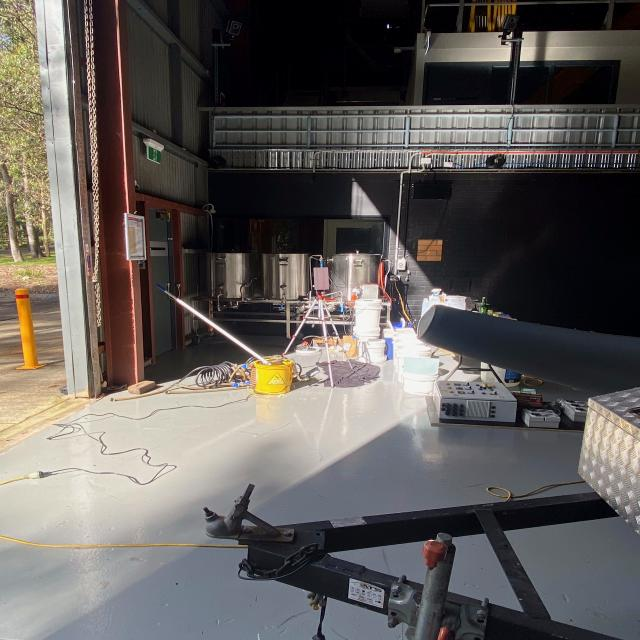matrix: (311, 266, 333, 292)
